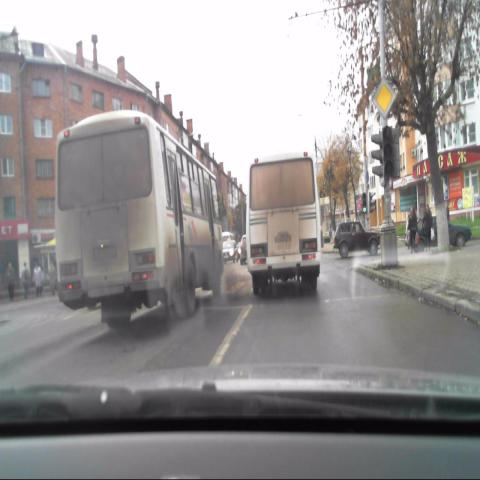2_1: (372, 79, 395, 118)
